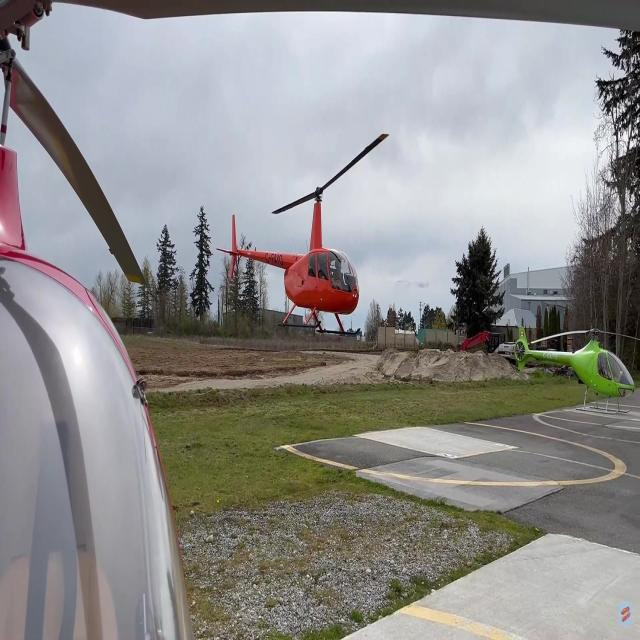CIV_HELO: (216, 186, 363, 337)
